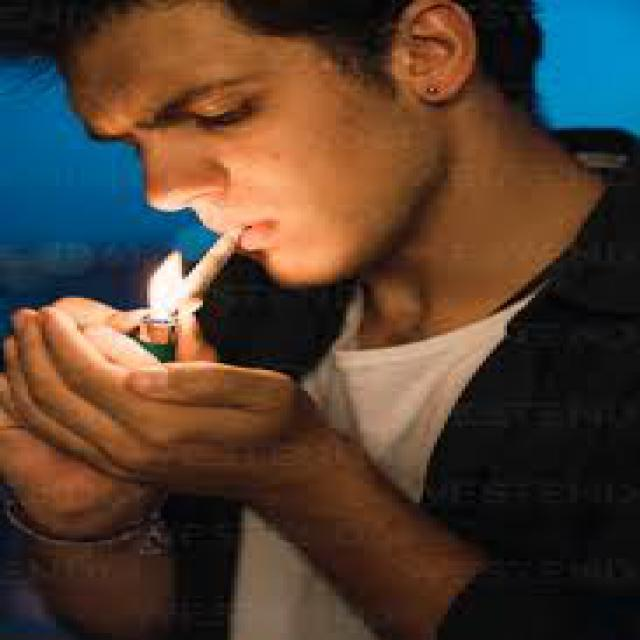cigarette: (164, 223, 249, 321)
